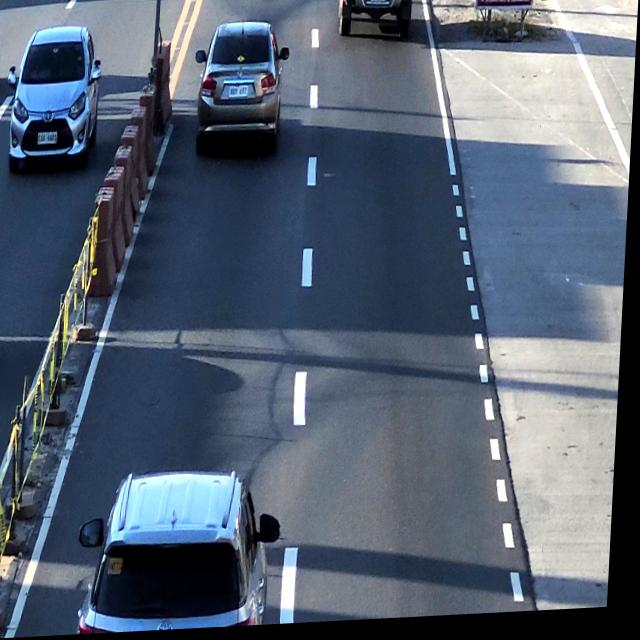Car: (87, 471, 286, 635), (193, 22, 288, 155), (335, 0, 418, 42)
License-Plate: (229, 83, 252, 103), (368, 0, 389, 10)
